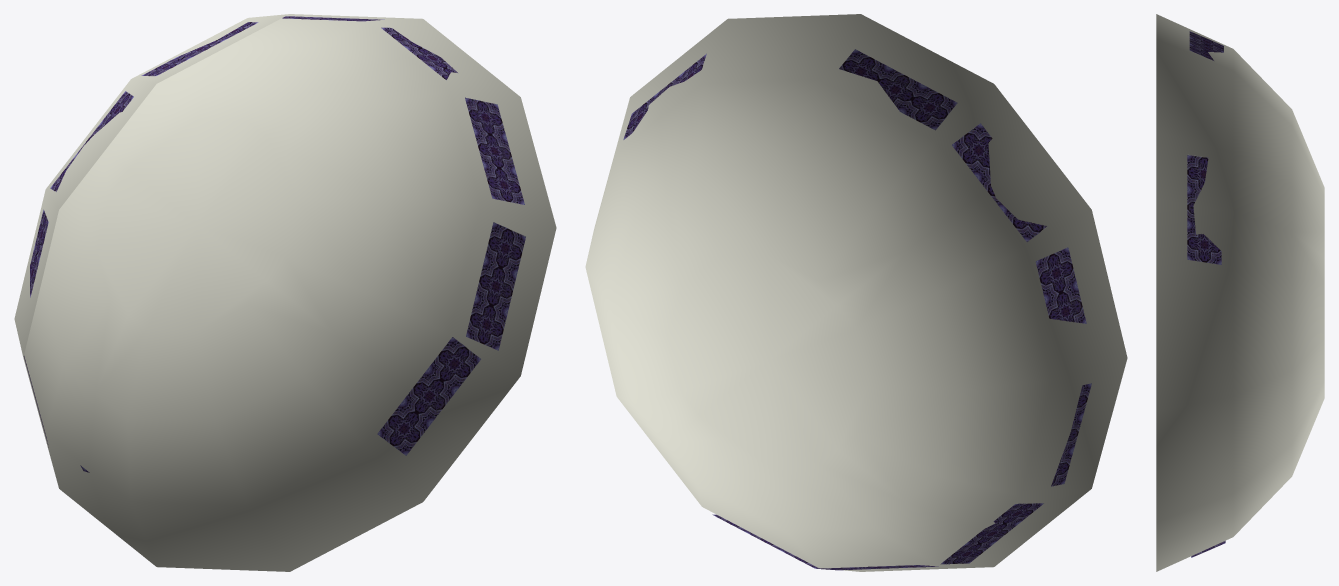
File: model_align.obj
3 renders of one model, left to right at view 1: azimuth 30°, elevation 25°; view 2: azimuth 150°, elevation 25°; view 3: azimuth 270°, elevation 25°, orthographic. The views are drawn at different scales.
Visible parts, largest first — view 1: mesh1_mesh1-geometry, mesh9_mesh9-geometry, mesh8_mesh8-geometry, mesh7_mesh7-geometry, mesh6_mesh6-geometry, mesh3_mesh3-geometry; view 2: mesh1_mesh1-geometry, mesh3_mesh3-geometry, mesh5_mesh5-geometry, mesh4_mesh4-geometry, mesh11_mesh11-geometry, mesh10_mesh10-geometry, mesh6_mesh6-geometry; view 3: mesh1_mesh1-geometry, mesh6_mesh6-geometry, mesh3_mesh3-geometry.
Boxes of the visible parts, left/top/right/bottom form: mesh1_mesh1-geometry: left=14, top=14, right=556, bottom=571; mesh9_mesh9-geometry: left=377, top=337, right=481, bottom=455; mesh8_mesh8-geometry: left=466, top=222, right=525, bottom=350; mesh7_mesh7-geometry: left=465, top=97, right=524, bottom=204; mesh6_mesh6-geometry: left=381, top=27, right=457, bottom=80; mesh3_mesh3-geometry: left=141, top=22, right=258, bottom=76; mesh1_mesh1-geometry: left=585, top=14, right=1127, bottom=571; mesh3_mesh3-geometry: left=839, top=49, right=957, bottom=130; mesh5_mesh5-geometry: left=1035, top=247, right=1086, bottom=323; mesh4_mesh4-geometry: left=952, top=123, right=1047, bottom=241; mesh11_mesh11-geometry: left=940, top=503, right=1043, bottom=564; mesh10_mesh10-geometry: left=1051, top=383, right=1091, bottom=486; mesh6_mesh6-geometry: left=623, top=53, right=706, bottom=139; mesh1_mesh1-geometry: left=1156, top=14, right=1324, bottom=571; mesh6_mesh6-geometry: left=1187, top=154, right=1221, bottom=264; mesh3_mesh3-geometry: left=1189, top=31, right=1223, bottom=60.
Bounding box in the file's own units: 0.1636 × 0.1636 × 0.0491.
Materials: 2 (1 with a texture image).
